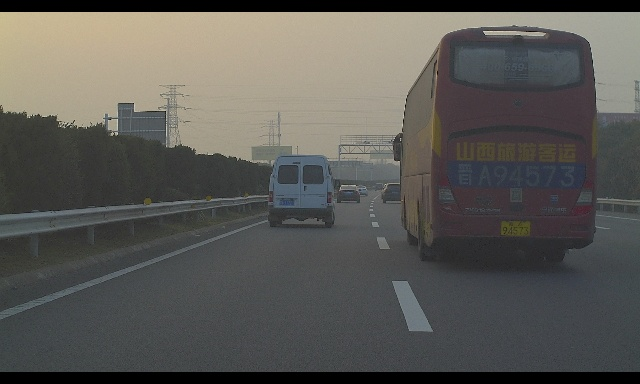bus: (392, 25, 598, 263)
car: (267, 155, 340, 227), (381, 182, 405, 203), (337, 185, 361, 203), (355, 185, 368, 196), (375, 183, 384, 191)
